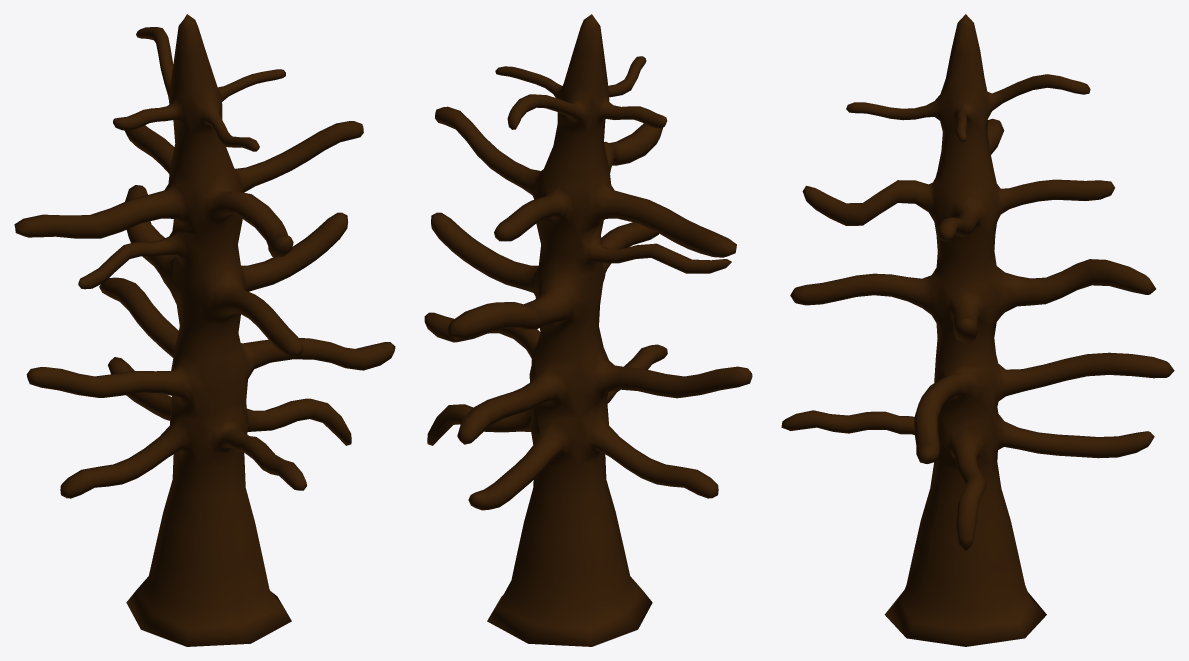
The model's file is Tree2.fbx.
3 renders of one model, left to right at view 1: azimuth 30°, elevation 25°; view 2: azimuth 150°, elevation 25°; view 3: azimuth 270°, elevation 25°, orthographic. The views are drawn at different scales.
Parts seen in each view (by area): view 1: Tree2; view 2: Tree2; view 3: Tree2.
Boxes of the visible parts, box(x1,y1,x2,y2) form: Tree2: box(14, 14, 395, 646); Tree2: box(424, 14, 752, 646); Tree2: box(781, 14, 1174, 646).
Bounding box in the file's own units: 781 × 1307 × 782.
